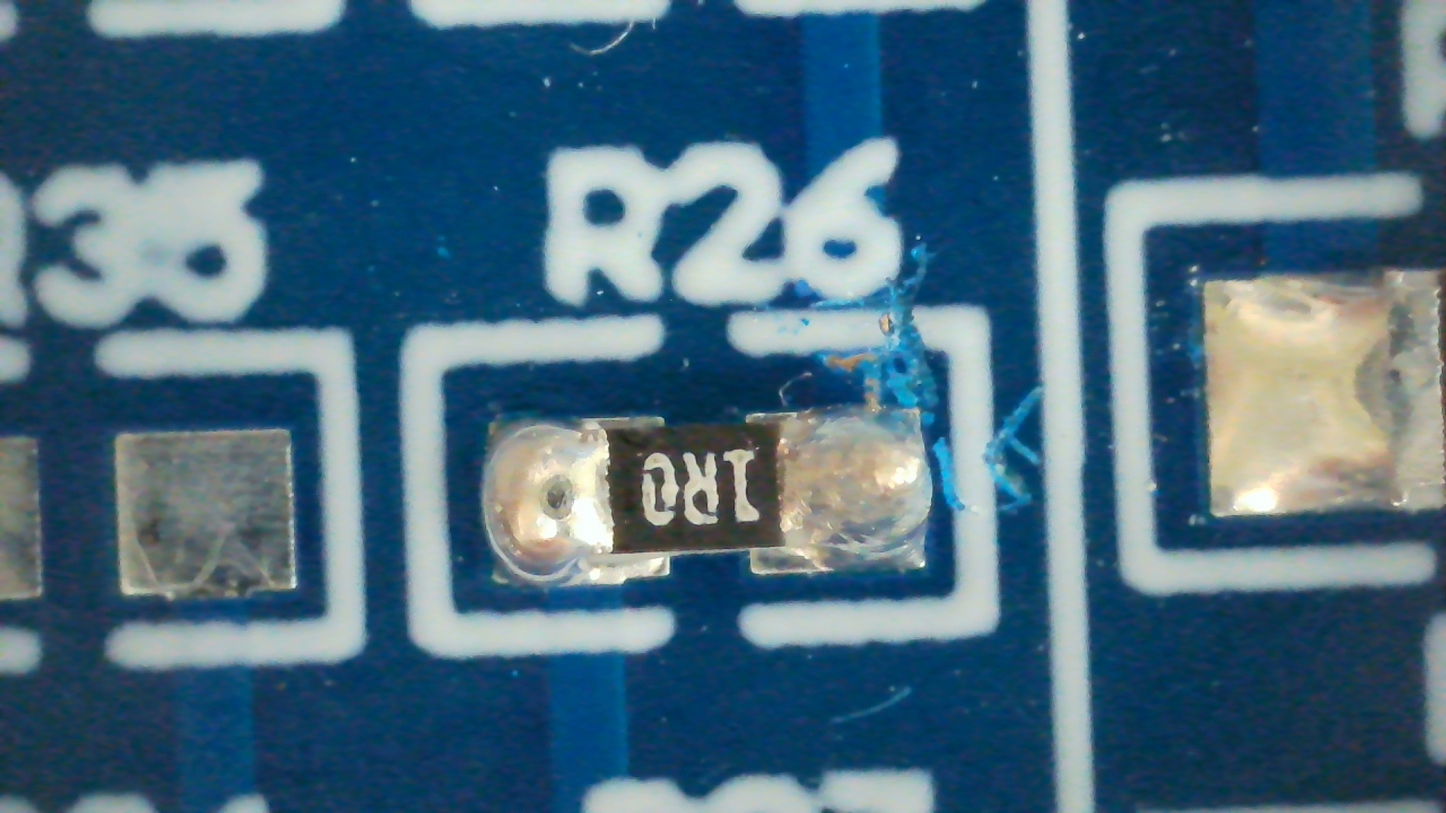OK: (482, 393, 931, 588)
